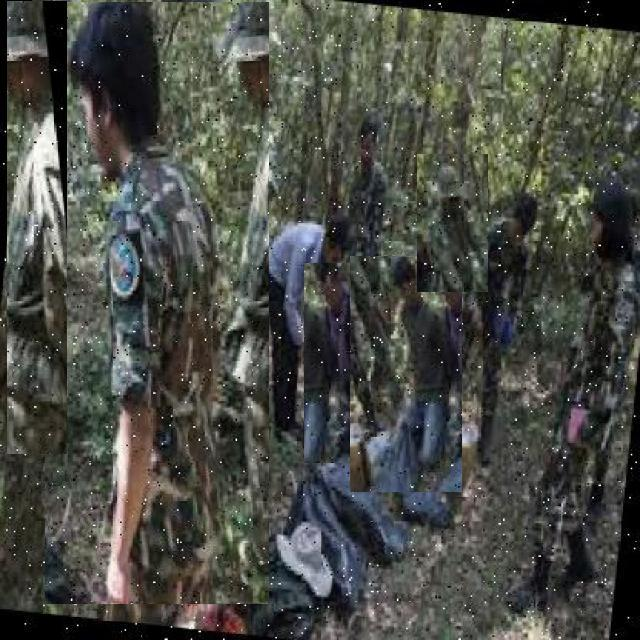poacher: (45, 2, 269, 604), (495, 184, 640, 602), (424, 197, 578, 448), (8, 1, 68, 454), (350, 256, 462, 492), (248, 206, 348, 457), (304, 263, 388, 463), (417, 154, 488, 292)
